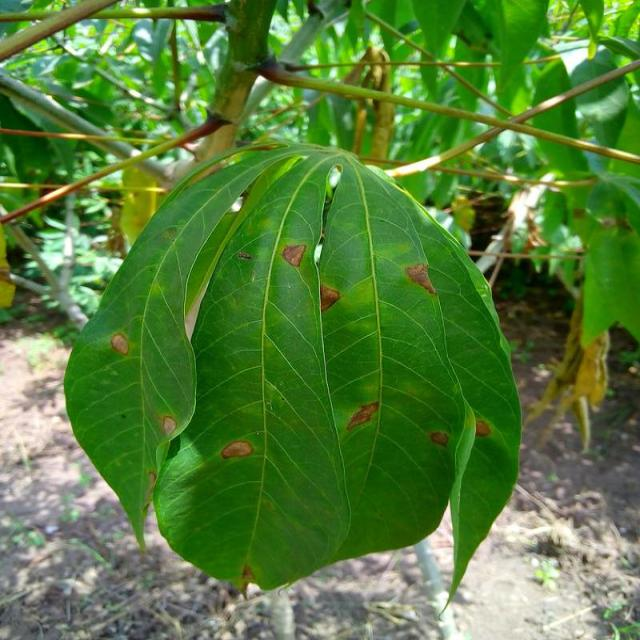cassava leaf: (63, 141, 523, 607)
